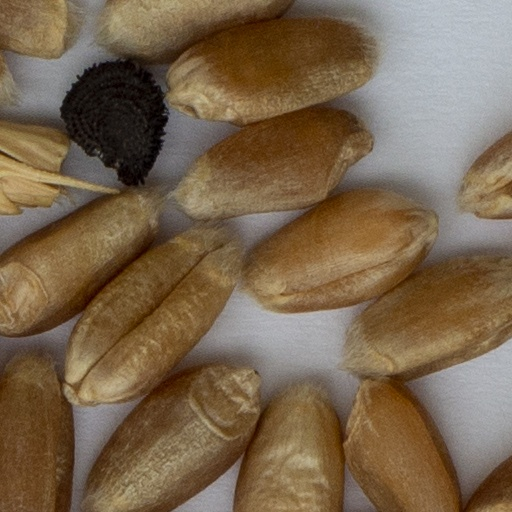Agrostemma-poly: (58, 60, 168, 185)
Peel-poly: (0, 117, 125, 216)
Wheat-grain-poly: (78, 365, 263, 511), (345, 380, 461, 511), (234, 383, 344, 511), (0, 350, 77, 511), (459, 130, 511, 220)
